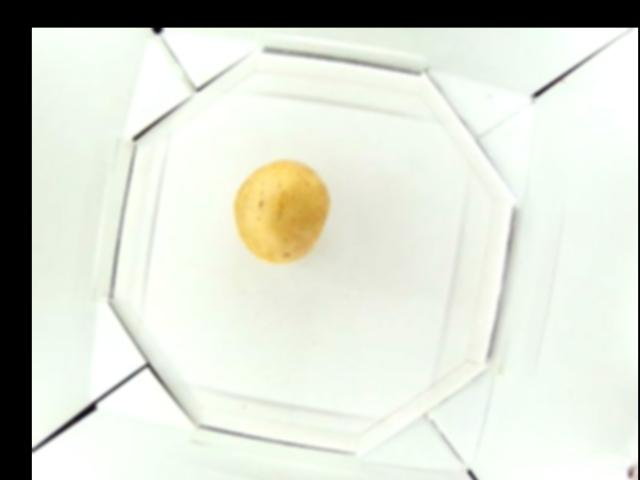Potato: (229, 156, 329, 268)
